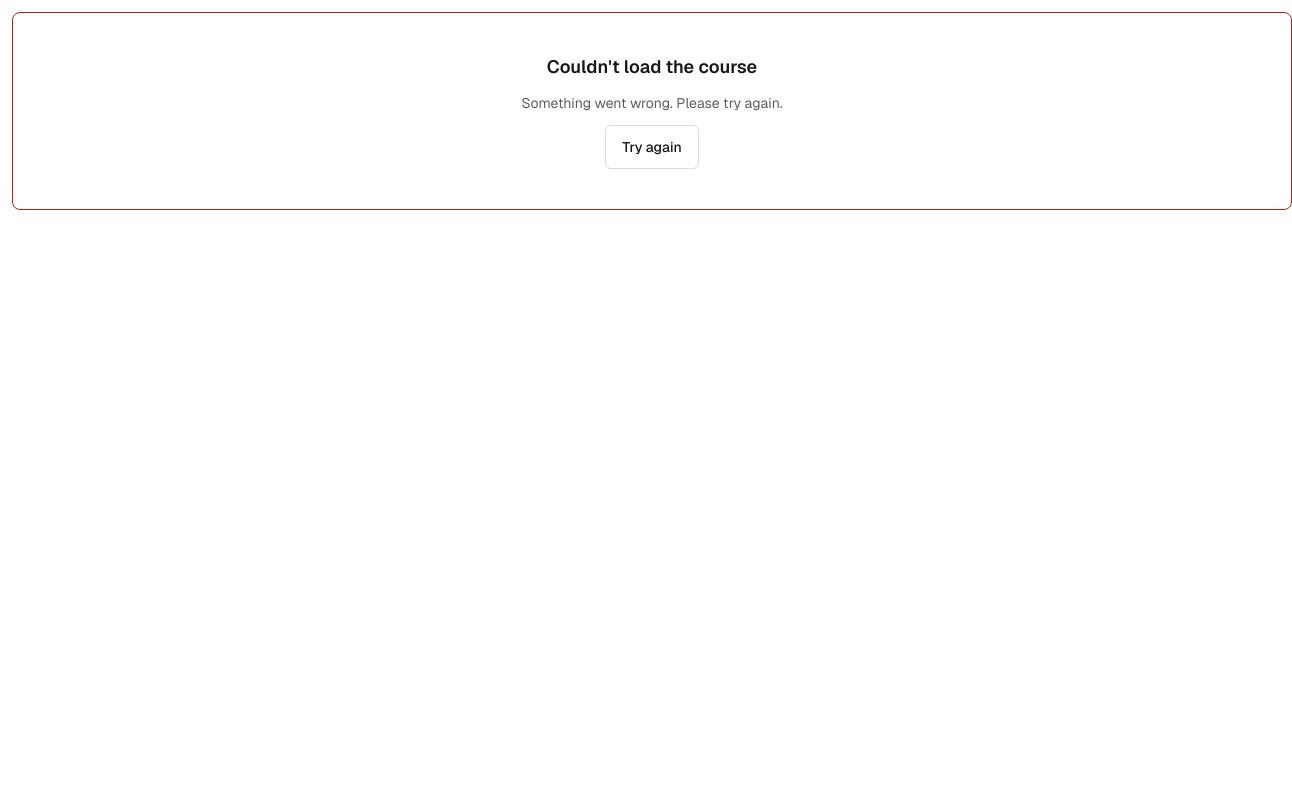
Test: CourseNotes › shows a safe message when loading fails, and retries
Expected: the heading "Couldn't load the course" is shown, [547, 53, 757, 81]
Expected: the text "Something went wrong. Please try again." is shown, [521, 93, 783, 113]
Click the button "Try again".
click(652, 147)  # box [605, 125, 699, 169]
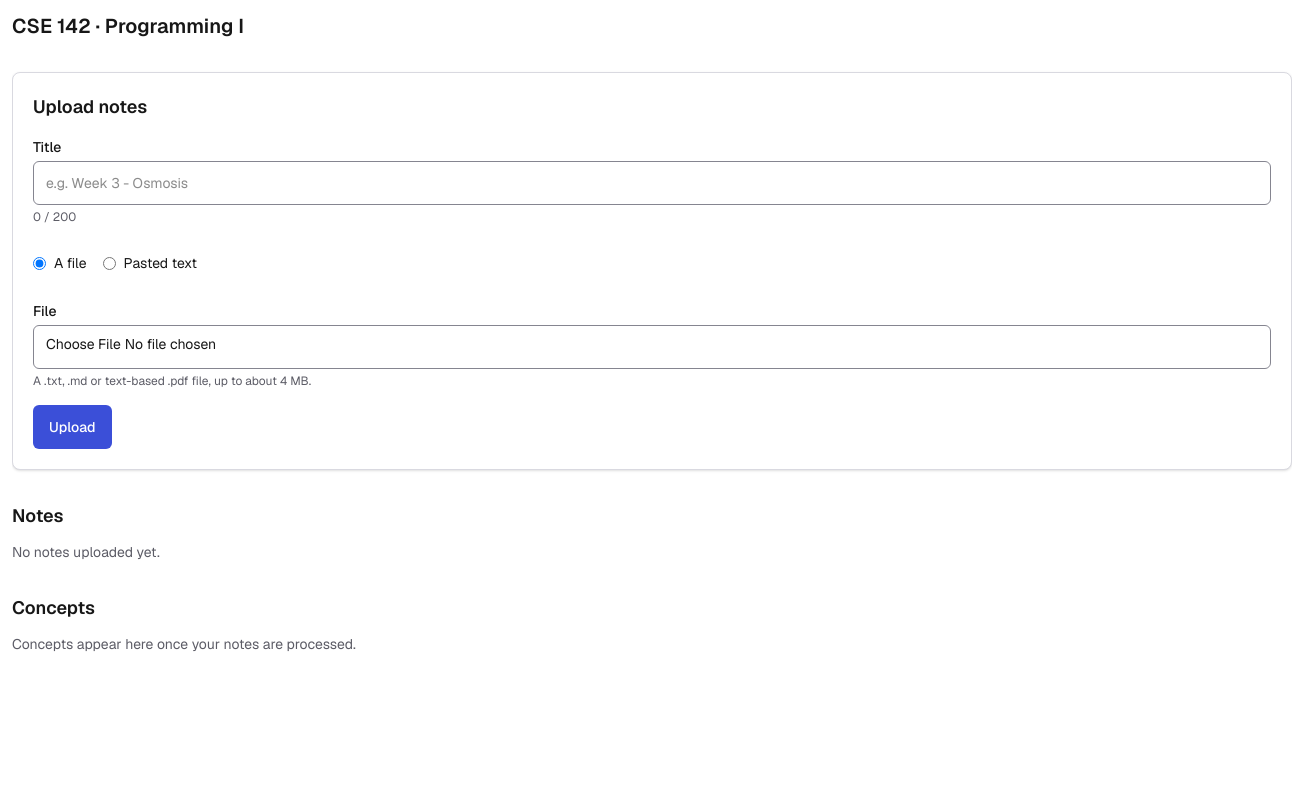
Expected: the text "No notes uploaded yet." is shown, [12, 543, 160, 561]
